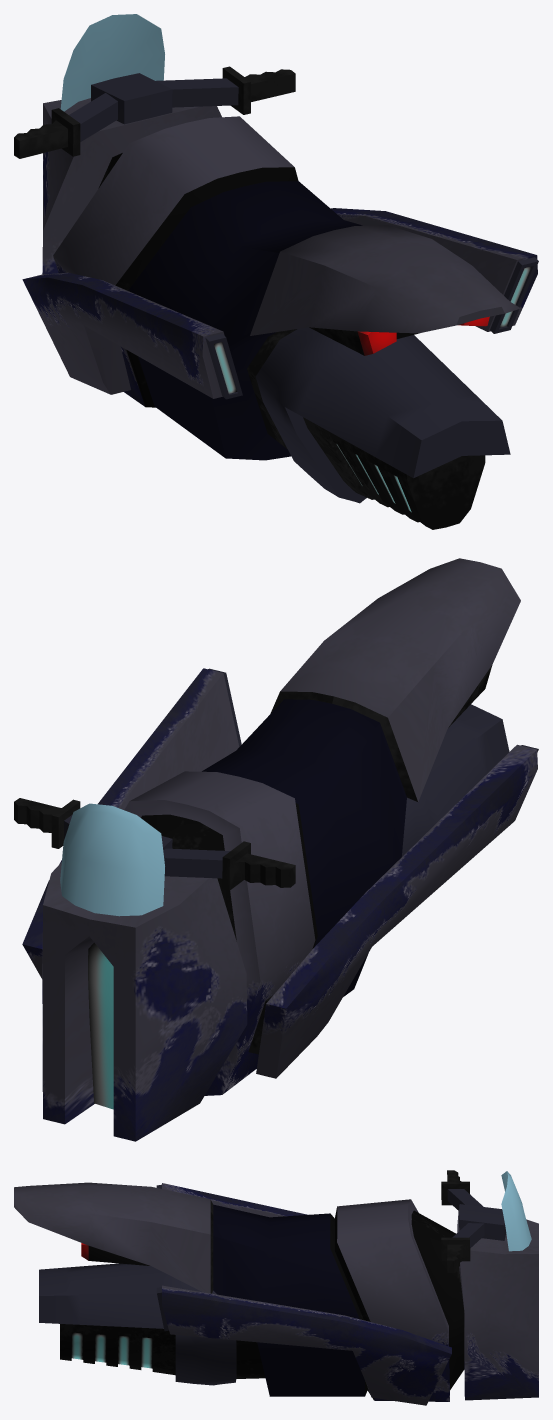
File: Moto 1.fbx
3 renders of one model, top to bottom at view 1: azimuth 30°, elevation 25°; view 2: azimuth 150°, elevation 25°; view 3: azimuth 270°, elevation 25°, orthographic. The views are drawn at different scales.
Visible parts, largest first — view 1: Cube; view 2: Cube; view 3: Cube.
Part boxes in pixels (<box>): Cube: <box>14,14,538,529</box>; Cube: <box>14,558,538,1141</box>; Cube: <box>14,1170,538,1405</box>.
Size of the model in its own units: 356 by 323 by 719.
